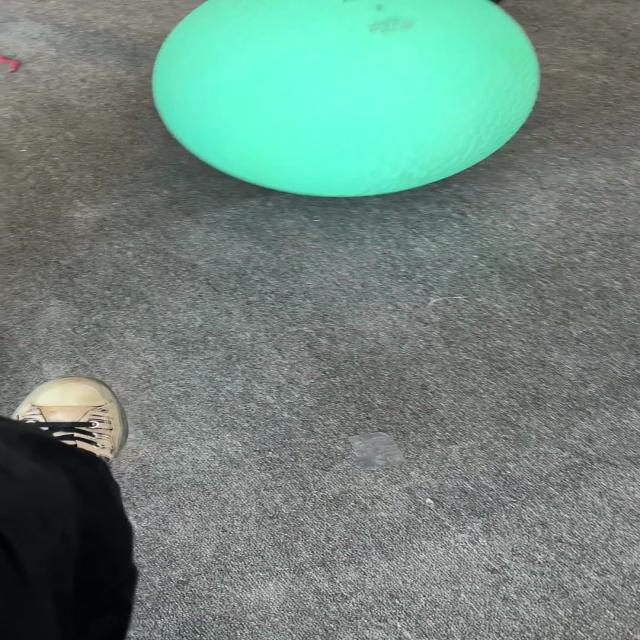Algae: (149, 0, 541, 198)
